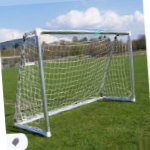goals: (14, 27, 137, 138)
